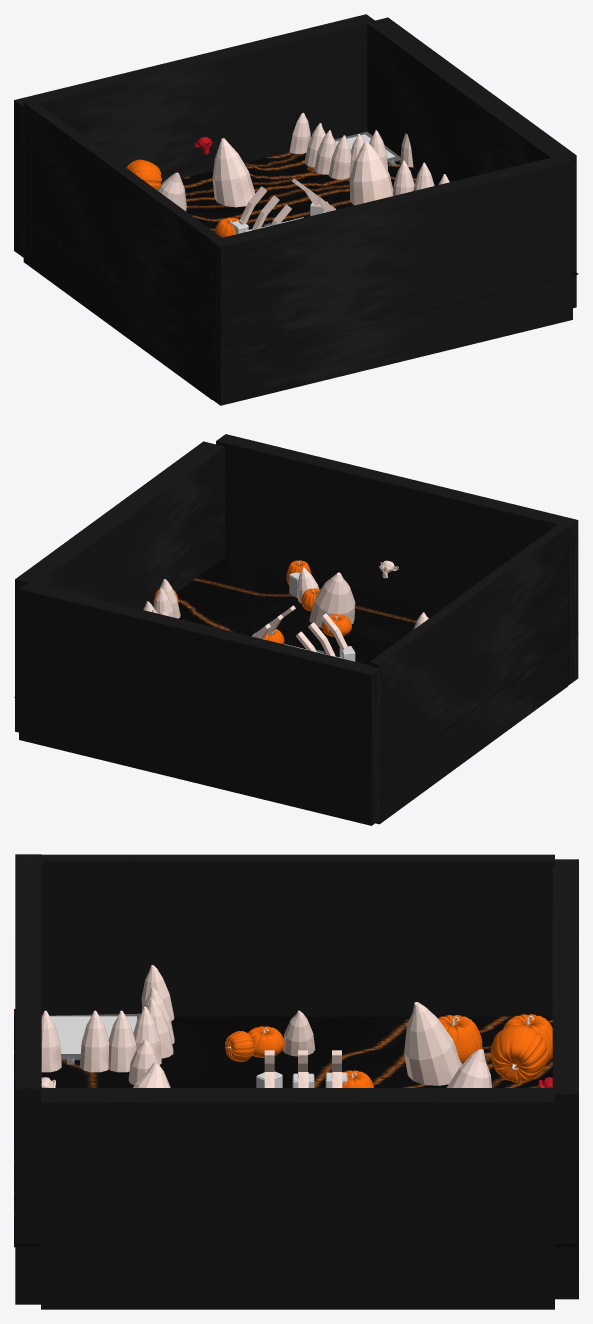
3 views of the same model, one above another, from view 1: azimuth 30°, elevation 25°; view 2: azimuth 150°, elevation 25°; view 3: azimuth 270°, elevation 25° (orthographic). The views are drawn at different scales.
Parts seen in each view (by area): view 1: Cube, Cube.001, Cube.003, Cube.002, Plane, Cylinder.021, Cylinder.013, Cylinder.017, Cylinder.004, Circle.017, Cylinder.018, Cylinder.020 (+1 smaller); view 2: Cube.001, Cube, Cube.003, Cube.002, Plane, Cylinder.003; view 3: Cube.002, Cube.003, Plane, Cube, Cube.001, Cylinder.004, Circle.017, Cylinder.006, TSpawn_Tiles, Cylinder.008, Circle.012, Cylinder.021 (+10 smaller).
Boxes of the visible parts, box(x1,y1,x2,y2) form: Cube: box(211, 154, 572, 405); Cube.001: box(14, 14, 374, 257); Cube.003: box(23, 100, 221, 399); Cube.002: box(367, 17, 576, 308); Plane: box(24, 152, 578, 361); Cylinder.021: box(212, 138, 255, 207); Cylinder.013: box(349, 142, 393, 205); Cylinder.017: box(328, 135, 351, 179); Cylinder.004: box(157, 172, 186, 211); Circle.017: box(126, 159, 161, 190); Cylinder.018: box(314, 130, 336, 174); Cylinder.020: box(289, 112, 310, 153); Cube.001: box(19, 583, 381, 825); Cube: box(216, 434, 578, 685); Cube.003: box(369, 524, 568, 824); Cube.002: box(15, 441, 224, 732); Plane: box(14, 557, 578, 777); Cylinder.003: box(309, 572, 355, 627); Cube.002: box(41, 1088, 554, 1309); Cube.003: box(41, 854, 554, 1016); Plane: box(14, 1009, 577, 1247); Cube: box(15, 854, 41, 1304); Cube.001: box(552, 859, 578, 1299); Cylinder.004: box(404, 1002, 461, 1085); Circle.017: box(490, 1024, 548, 1082); Cylinder.006: box(79, 1010, 108, 1072); TSpawn_Tiles: box(50, 1016, 136, 1053); Cylinder.008: box(108, 1010, 136, 1072); Circle.012: box(438, 1015, 482, 1064); Cylinder.021: box(446, 1049, 491, 1087).
Size of the model in its own units: 207 by 86.5 by 203.
